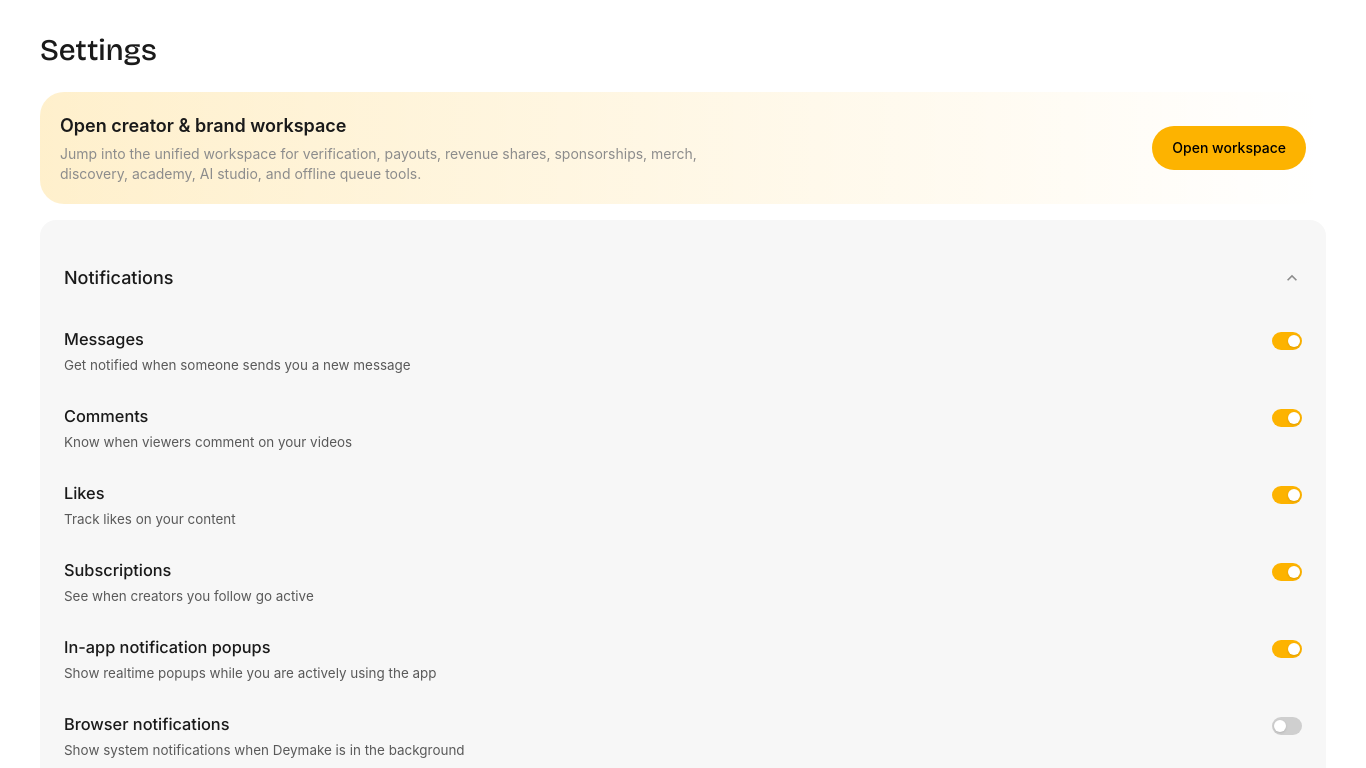
Test: Settings › shows an error and does not persist when browser notification permission is denied
This screenshot has width=1366, height=768.
Click the switch in the row of "Browser notifications".
click(1287, 726)  # box [1272,717,1302,735]
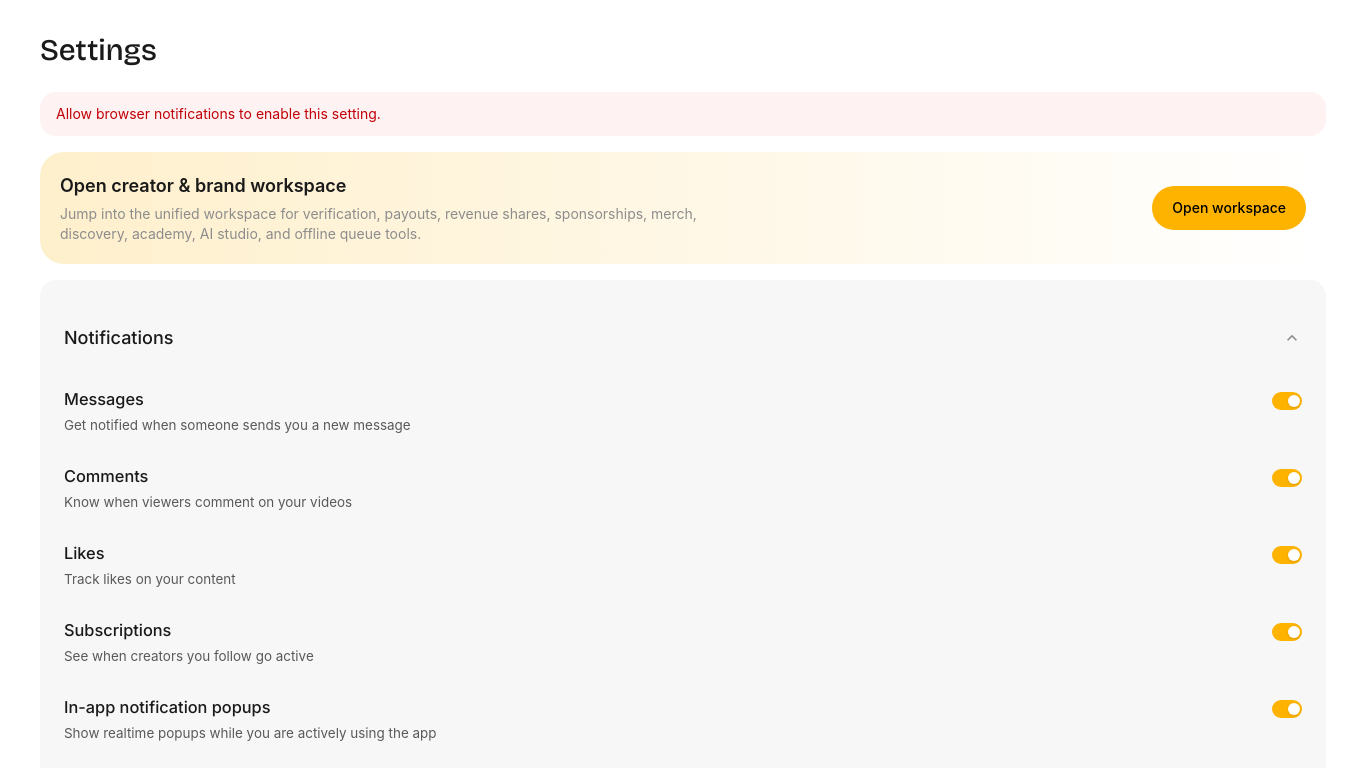
expect the text "Allow browser notifications to enable this setting." is shown: met, box [40,92,1326,136]
